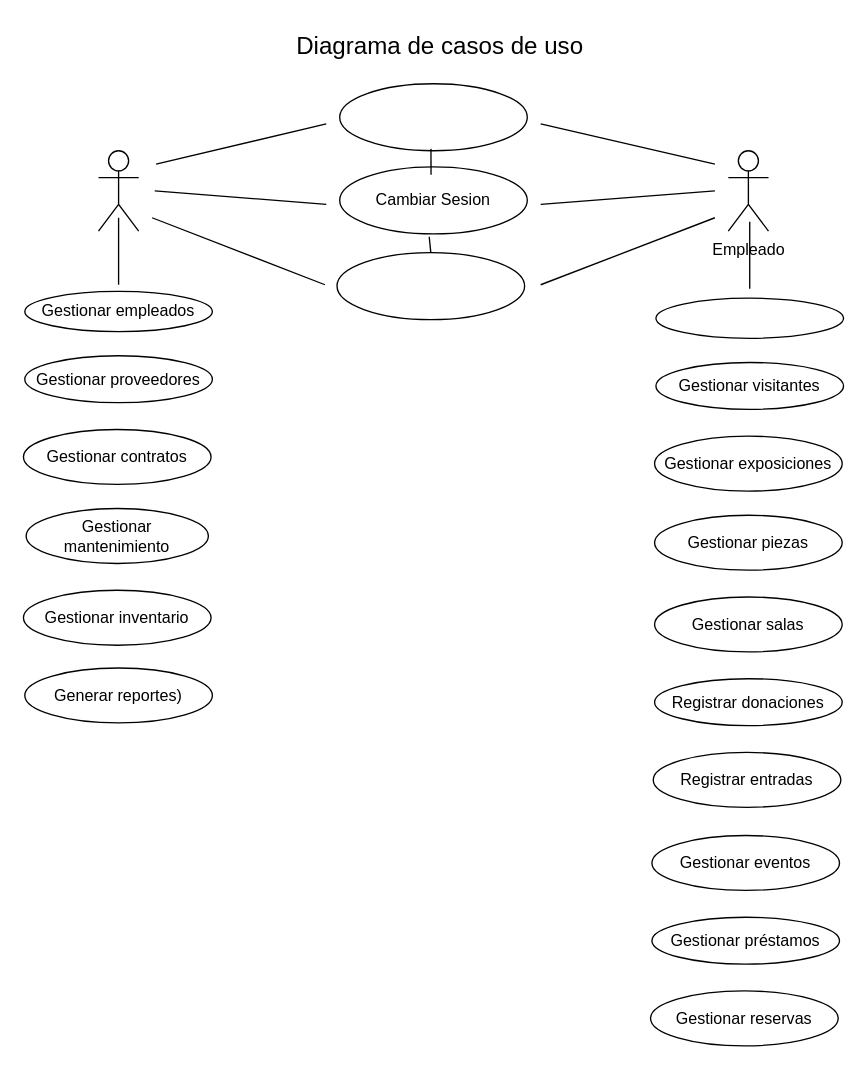
Some shapes in this 867 by 1069 pixel diagram are drawn without their labels. Each missing label, with the box of its shape:
Administrador: (97, 149, 139, 231)
Gestionar guías): (655, 297, 844, 338)
Iniciar Sesion: (338, 82, 527, 151)
Salir del Sistema: (336, 251, 525, 320)
